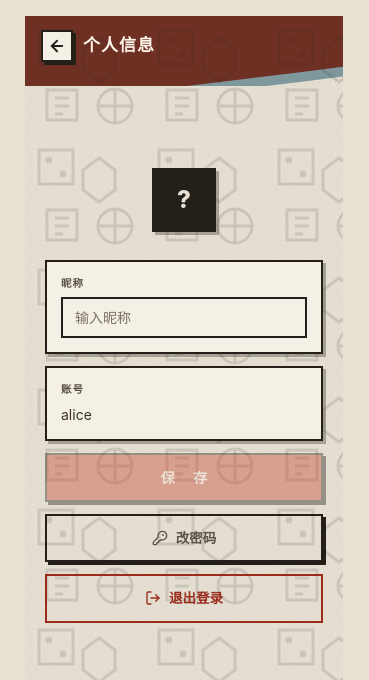
Test: 代价写在按下之前：别的设备会被踢下线
The image size is (369, 680).
Click the button "改密码" at (184, 538), box left=45, top=514, right=323, bottom=562
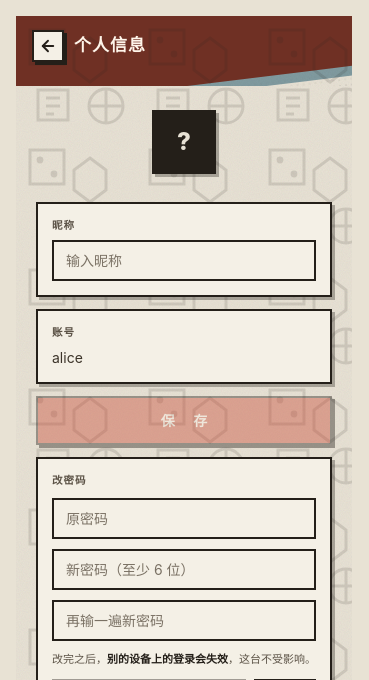
Check: the text "别的设备上的登录会失效" is shown, box left=107, top=652, right=228, bottom=666
